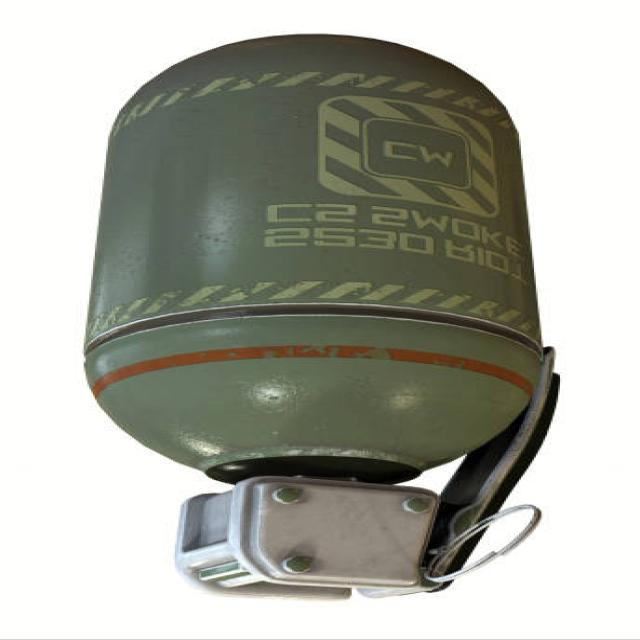grenade: (62, 30, 584, 613)
